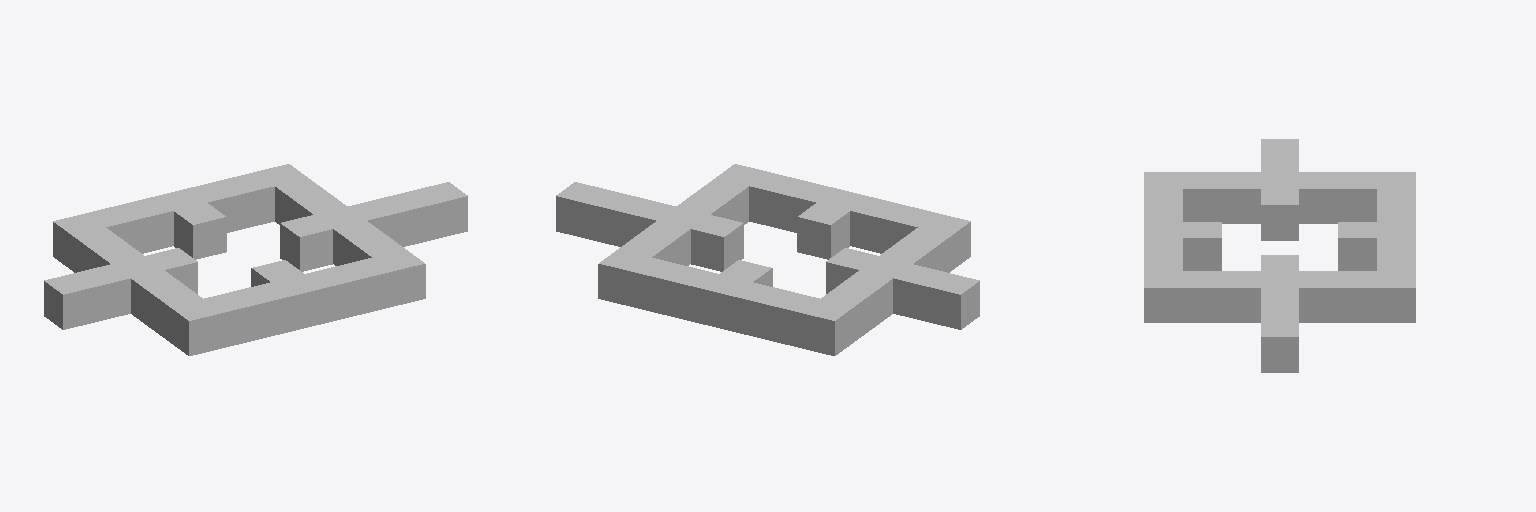
Rendered from mesh_bldg_mine_l6.obj.
3 views of the same model, side by side, from view 1: azimuth 30°, elevation 25°; view 2: azimuth 150°, elevation 25°; view 3: azimuth 270°, elevation 25° (orthographic).
Size of the model in its own units: 0.375 by 0.0312 by 0.2188.